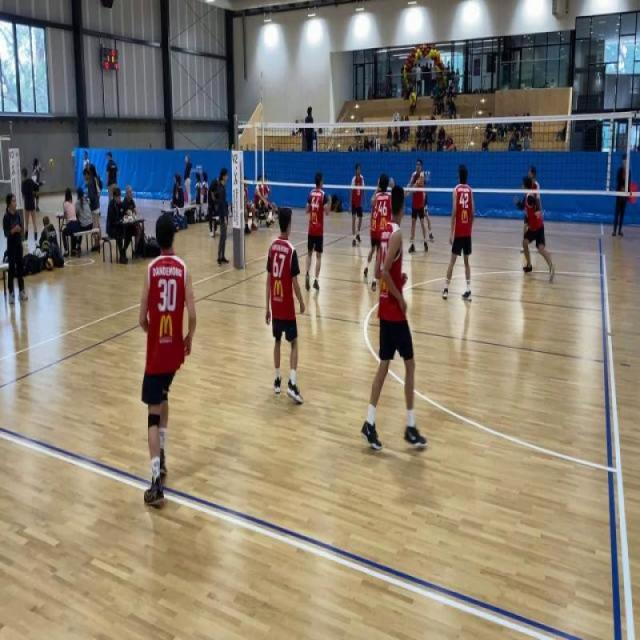volleyball: (46, 256, 54, 271), (409, 92, 417, 106), (49, 158, 54, 169), (148, 234, 152, 240)
